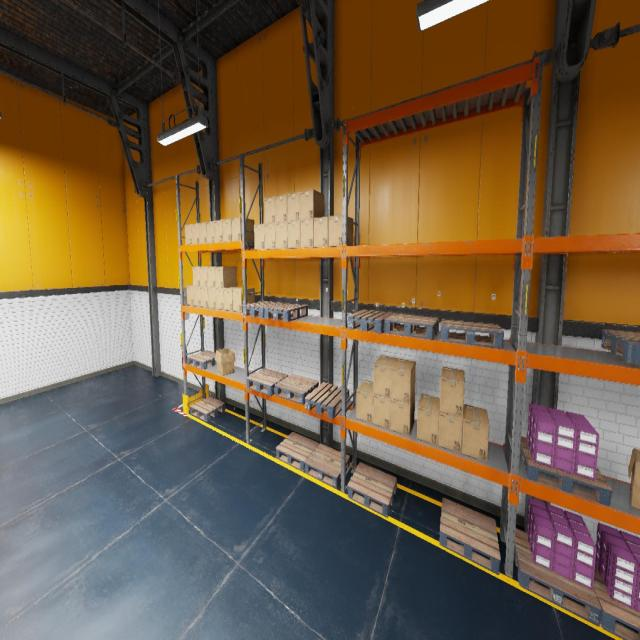box: (462, 404, 489, 462), (440, 367, 464, 417), (416, 394, 439, 446), (391, 358, 415, 403), (390, 392, 414, 436), (438, 411, 463, 453), (373, 355, 397, 398), (328, 215, 353, 247), (356, 380, 373, 424), (628, 448, 640, 510), (300, 189, 324, 219), (373, 394, 391, 430), (232, 287, 255, 312), (231, 217, 254, 242), (215, 348, 235, 375), (215, 266, 237, 287), (314, 216, 328, 247), (224, 287, 242, 310), (300, 218, 313, 248), (287, 191, 300, 221), (287, 220, 300, 248), (275, 194, 287, 222), (276, 222, 288, 249), (264, 223, 276, 249), (264, 196, 275, 224), (254, 224, 264, 249), (222, 218, 232, 242), (214, 220, 223, 242), (215, 288, 224, 309), (206, 221, 214, 243), (186, 285, 194, 306), (207, 266, 215, 287), (200, 266, 208, 287), (191, 223, 199, 244), (200, 287, 208, 307), (192, 266, 200, 286), (184, 224, 192, 244), (208, 287, 215, 309), (199, 222, 206, 244), (193, 286, 200, 306)
pallets: (514, 528, 601, 626), (520, 436, 612, 506), (439, 497, 501, 575), (593, 564, 640, 640), (347, 462, 397, 518), (304, 444, 350, 488), (441, 320, 504, 348), (276, 432, 319, 472), (305, 382, 349, 418), (384, 313, 439, 339), (601, 329, 640, 364), (275, 374, 318, 405), (246, 368, 288, 396), (348, 309, 394, 333), (190, 396, 225, 422), (264, 303, 308, 321), (242, 301, 285, 318), (187, 350, 216, 369)
